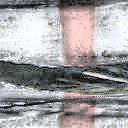crackTip: (1, 58, 128, 95)
